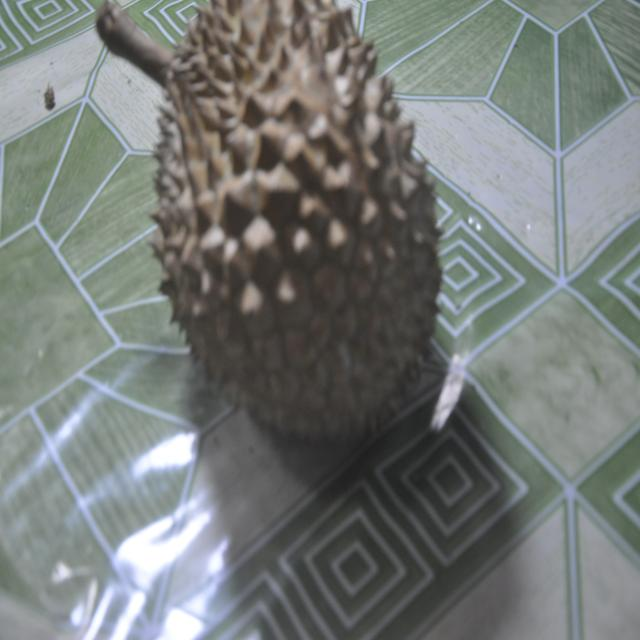mature: (91, 1, 455, 456)
